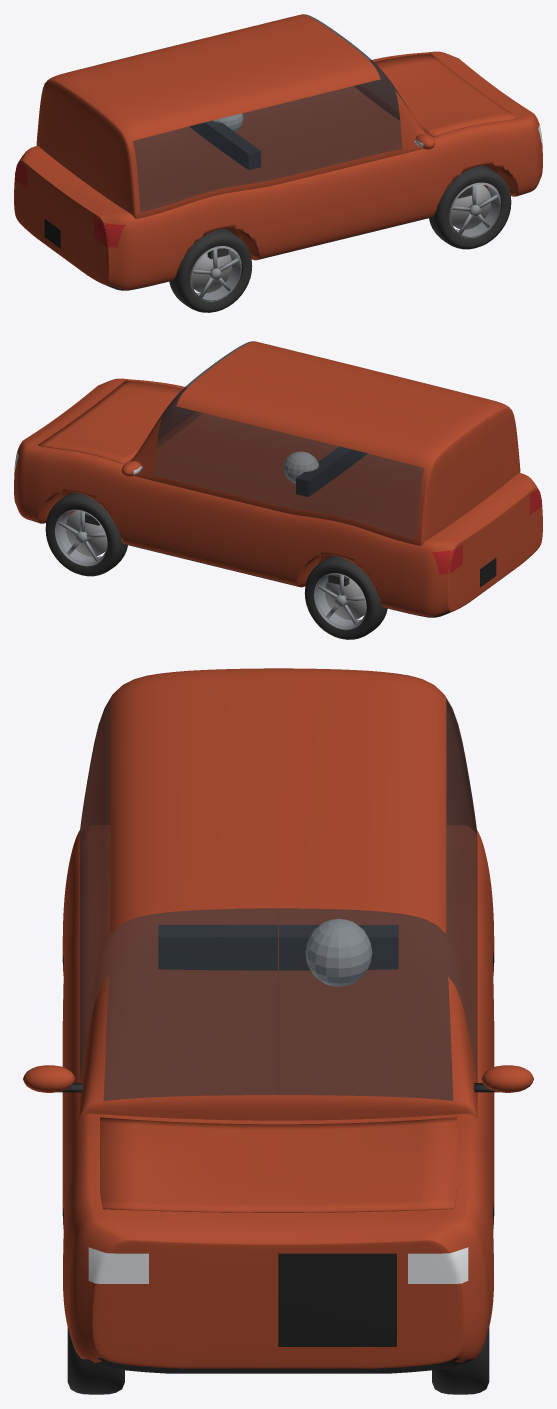
Rendered from derby_corrigan_scout.glb.
The picture shows the model from 3 angles, top to bottom: view 1: azimuth 30°, elevation 25°; view 2: azimuth 150°, elevation 25°; view 3: azimuth 270°, elevation 25°; orthographic projection. The views are drawn at different scales.
Parts seen in each view (by area): view 1: cabin, body, bumper_rear, bonnet, wheel_rr_spin, wheel_fr_spin, bumper_front, interior; view 2: cabin, body, bumper_rear, bonnet, wheel_rl_spin, wheel_fl_spin, bumper_front, interior; view 3: cabin, body, bumper_front, bonnet, interior, wheel_fl_spin, wheel_fr_spin, mirror_l, mirror_r.
Boxes of the visible parts, left/top/right/bottom form: cabin: left=36, top=14, right=426, bottom=218; body: left=34, top=52, right=525, bottom=290; bumper_rear: left=14, top=147, right=133, bottom=290; bonnet: left=364, top=53, right=518, bottom=136; wheel_rr_spin: left=169, top=228, right=252, bottom=312; wheel_fr_spin: left=429, top=165, right=511, bottom=249; bumper_front: left=426, top=51, right=542, bottom=194; interior: left=189, top=113, right=260, bottom=169; cabin: left=130, top=341, right=520, bottom=545; body: left=31, top=379, right=522, bottom=617; bumper_rear: left=423, top=474, right=542, bottom=617; bonnet: left=38, top=380, right=192, bottom=463; wheel_rl_spin: left=304, top=555, right=387, bottom=639; wheel_fl_spin: left=45, top=492, right=127, bottom=576; bumper_front: left=14, top=378, right=130, bottom=521; interior: left=283, top=446, right=367, bottom=496; cabin: left=79, top=668, right=477, bottom=1120; body: left=62, top=825, right=494, bottom=1331; bumper_front: left=66, top=1206, right=490, bottom=1373; bonnet: left=100, top=1117, right=456, bottom=1212; interior: left=158, top=919, right=398, bottom=986; wheel_fl_spin: left=432, top=1327, right=489, bottom=1394; wheel_fr_spin: left=67, top=1327, right=124, bottom=1394; mirror_l: left=473, top=1065, right=533, bottom=1092; mirror_r: left=23, top=1065, right=83, bottom=1092.
Bounding box in the file's own units: 4.21 × 1.82 × 2.13.
